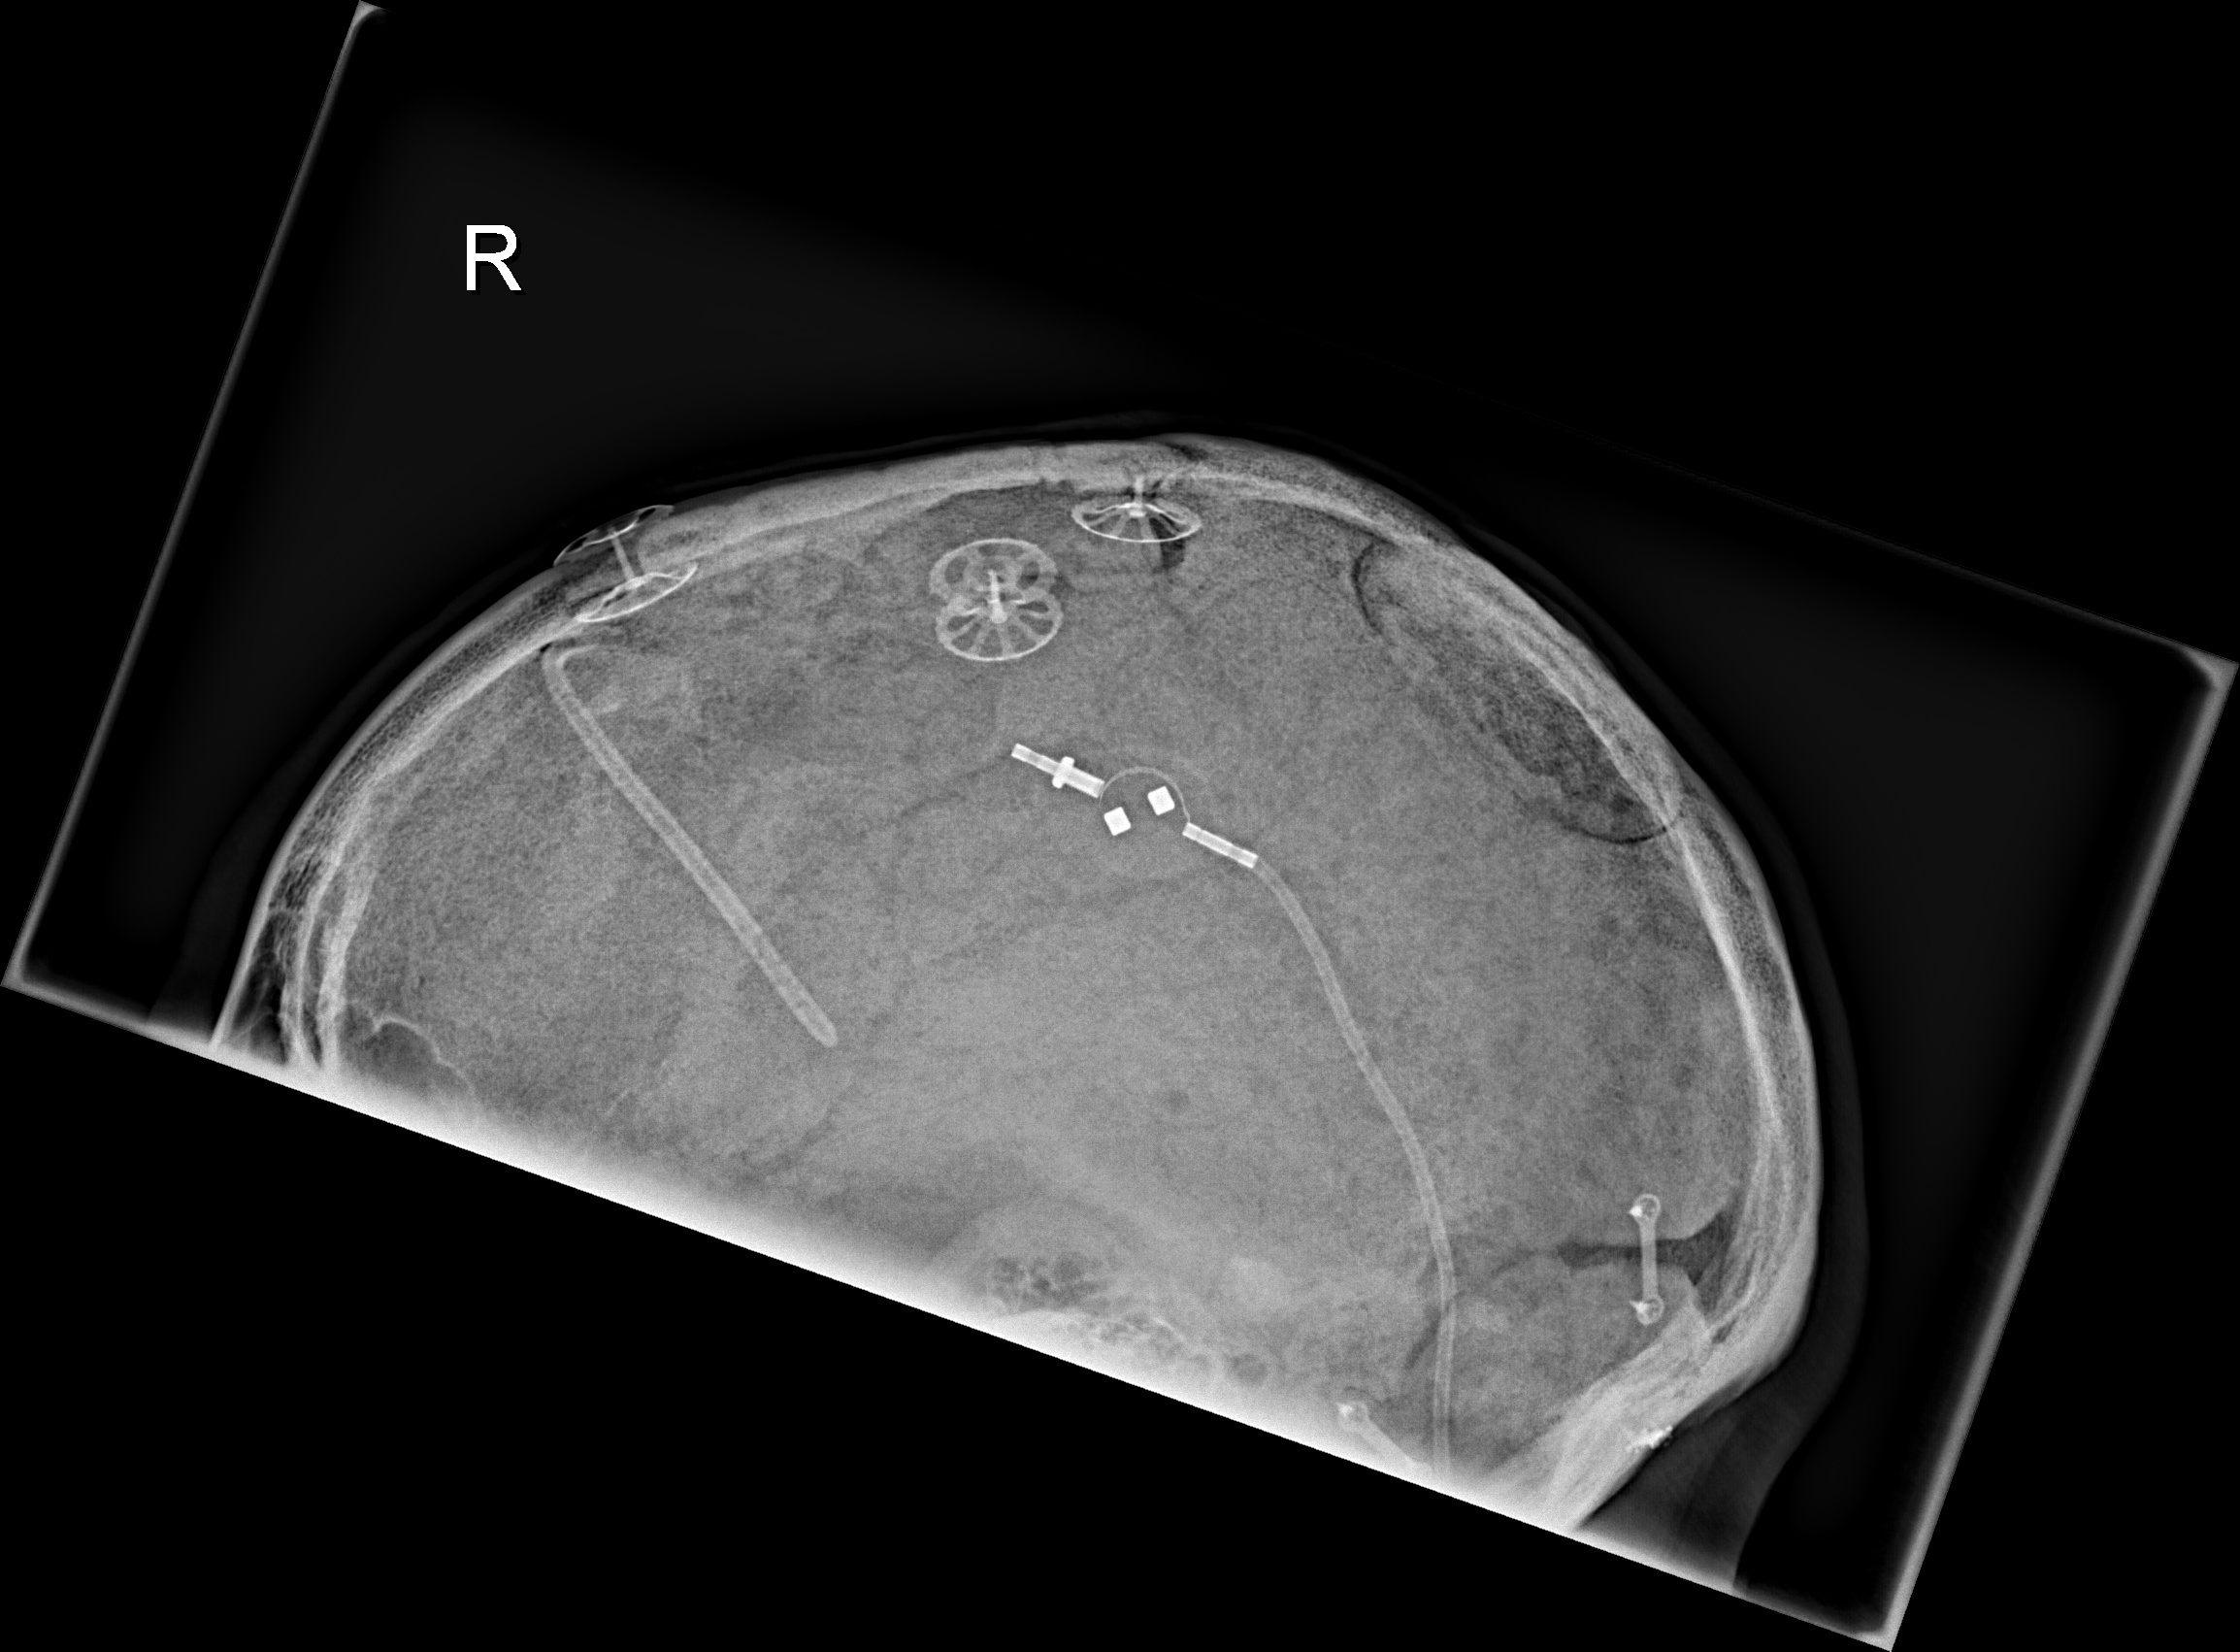Sophysa Polaris: (1080, 743, 1217, 883)
